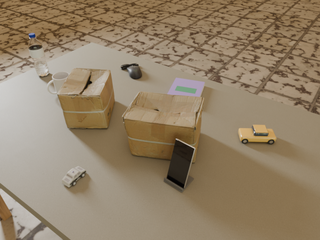book: (168, 78, 205, 97)
bottle: (28, 33, 49, 77)
box: (122, 92, 204, 163), (57, 68, 115, 129)
cup: (47, 72, 69, 94)
mouse: (120, 63, 142, 79)
phone: (167, 138, 196, 188)
toy_car: (238, 125, 276, 144), (62, 166, 86, 187)
